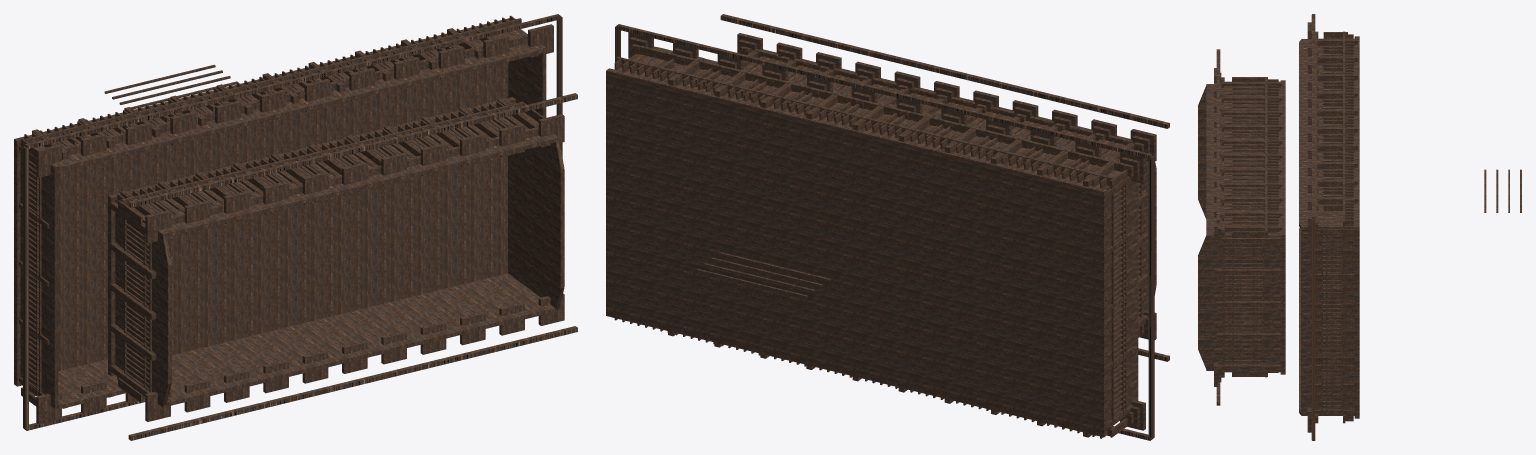
File: SM_ZDM_Wood.glb
The picture shows the model from 3 angles, left to right: view 1: azimuth 30°, elevation 25°; view 2: azimuth 150°, elevation 25°; view 3: azimuth 270°, elevation 25°; orthographic projection. The views are drawn at different scales.
Parts seen in each view (by area): view 1: LOD0_Wood; view 2: LOD0_Wood; view 3: LOD0_Wood.
Boxes of the visible parts, x1,y1,x2,y2 form: LOD0_Wood: [14, 14, 577, 440]; LOD0_Wood: [606, 14, 1169, 440]; LOD0_Wood: [1198, 14, 1521, 440].
Bounding box in the file's own units: 26.22 × 13.3 × 17.49.
Materials: 1 (1 with a texture image).
